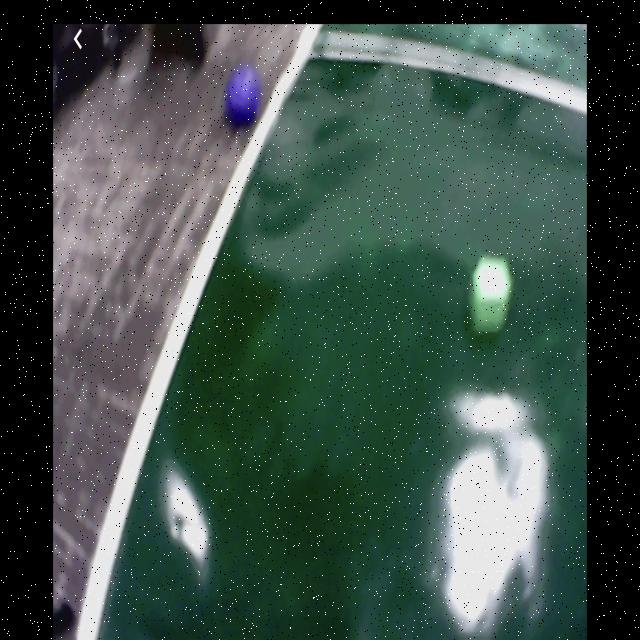ball: (225, 66, 261, 125)
